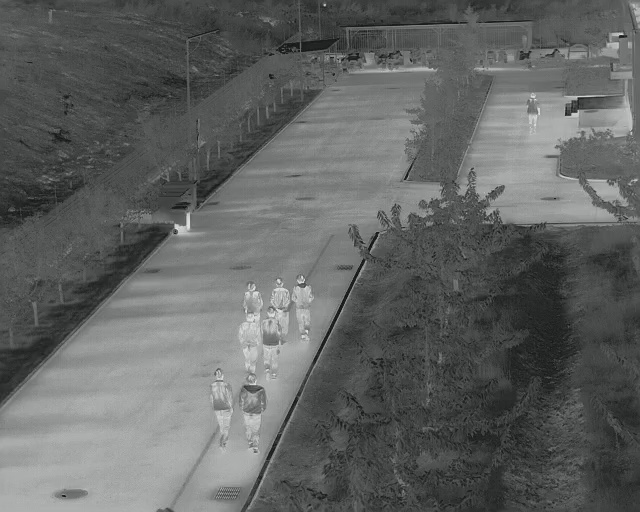person: (210, 367, 235, 450), (238, 374, 264, 453), (292, 274, 315, 340), (236, 313, 260, 375), (264, 310, 282, 377), (273, 279, 290, 328), (524, 89, 541, 134), (242, 281, 263, 312)
